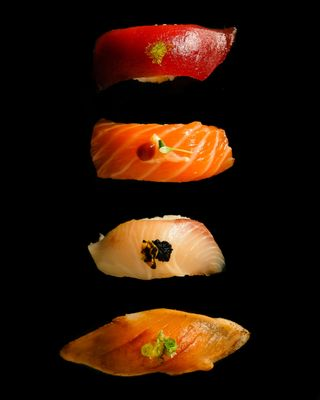salad: (87, 215, 226, 280)
sandwich: (60, 308, 252, 376)
